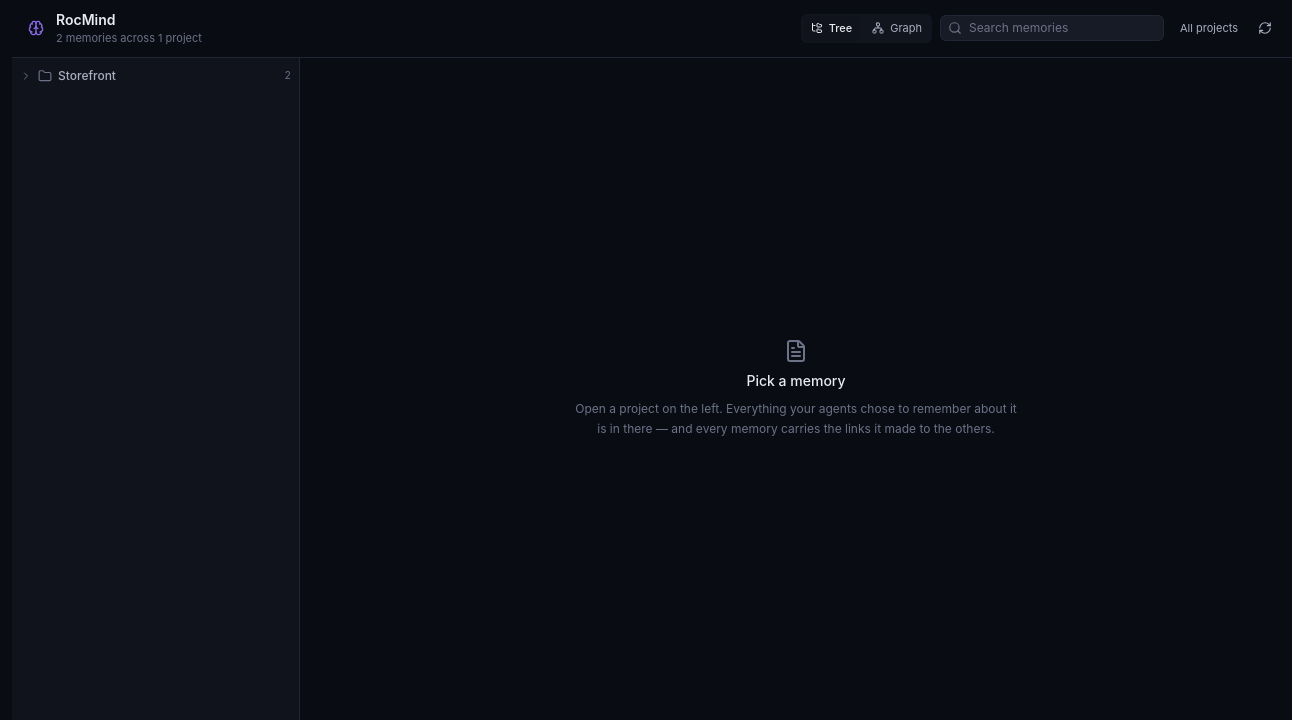
Test: the memory pane › does not offer a link that resolves to nothing
Click the button "Storefront 2": (87, 75) [12,62,299,90]
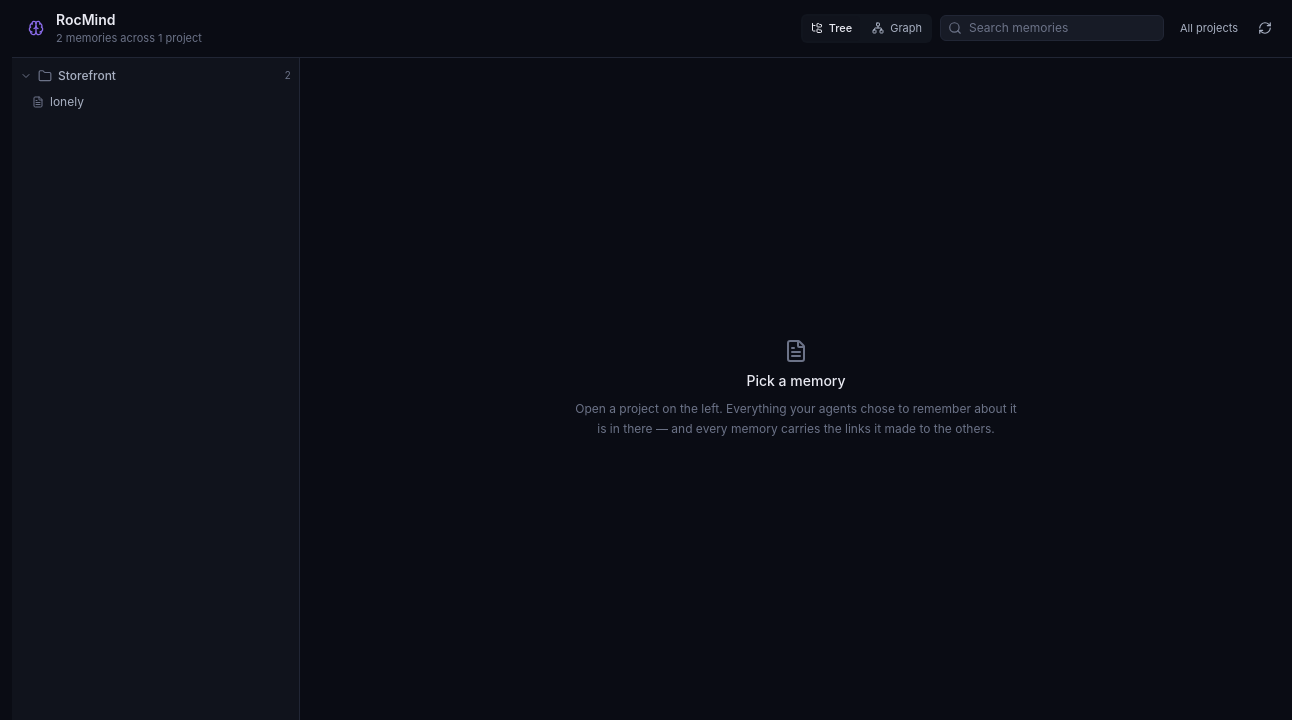
Click the button "lonely": (67, 101) [24,90,299,114]
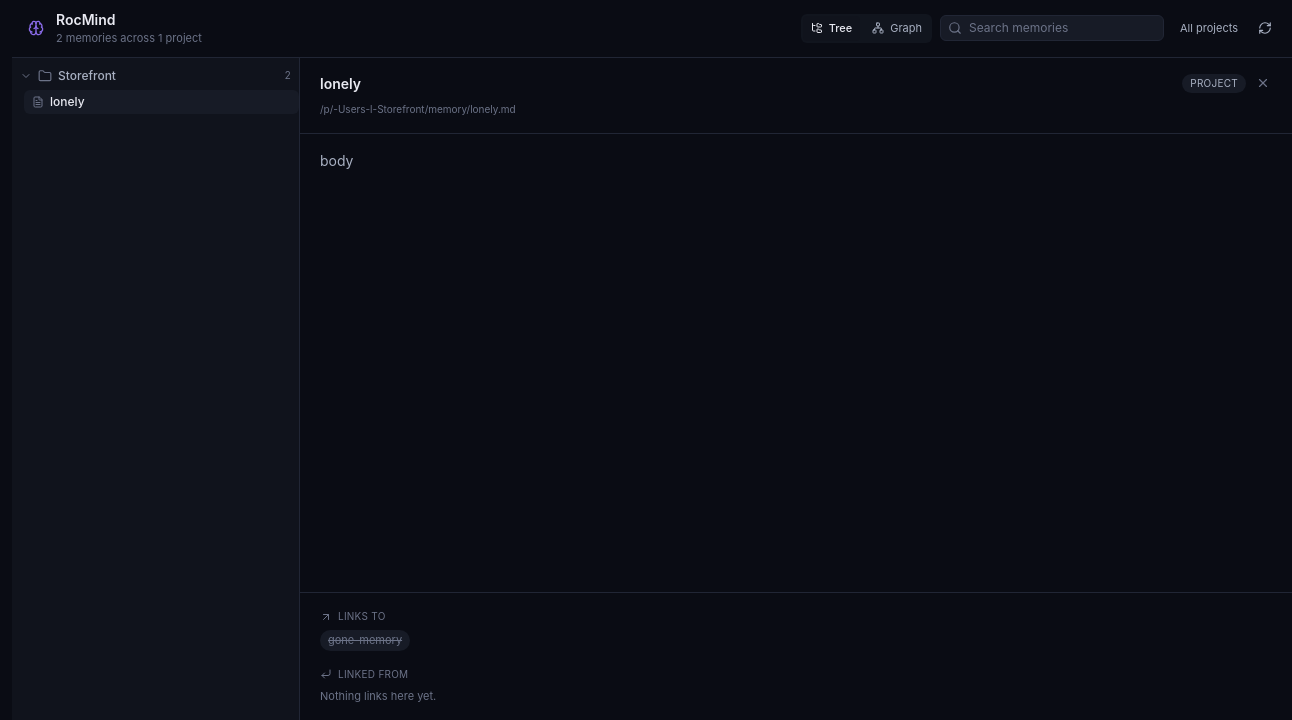
Check: the heading "Links to" is shown, box [320,610,386,622]
Check: the button "gone-memory" is disabled, box [320,630,410,650]
